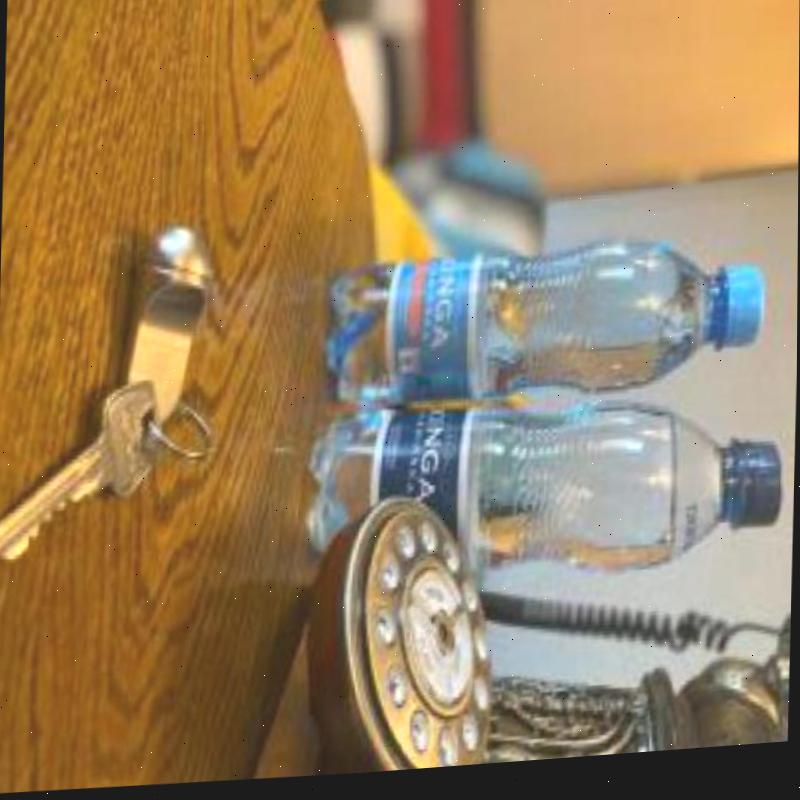botella: (303, 396, 785, 604), (320, 232, 768, 420)
